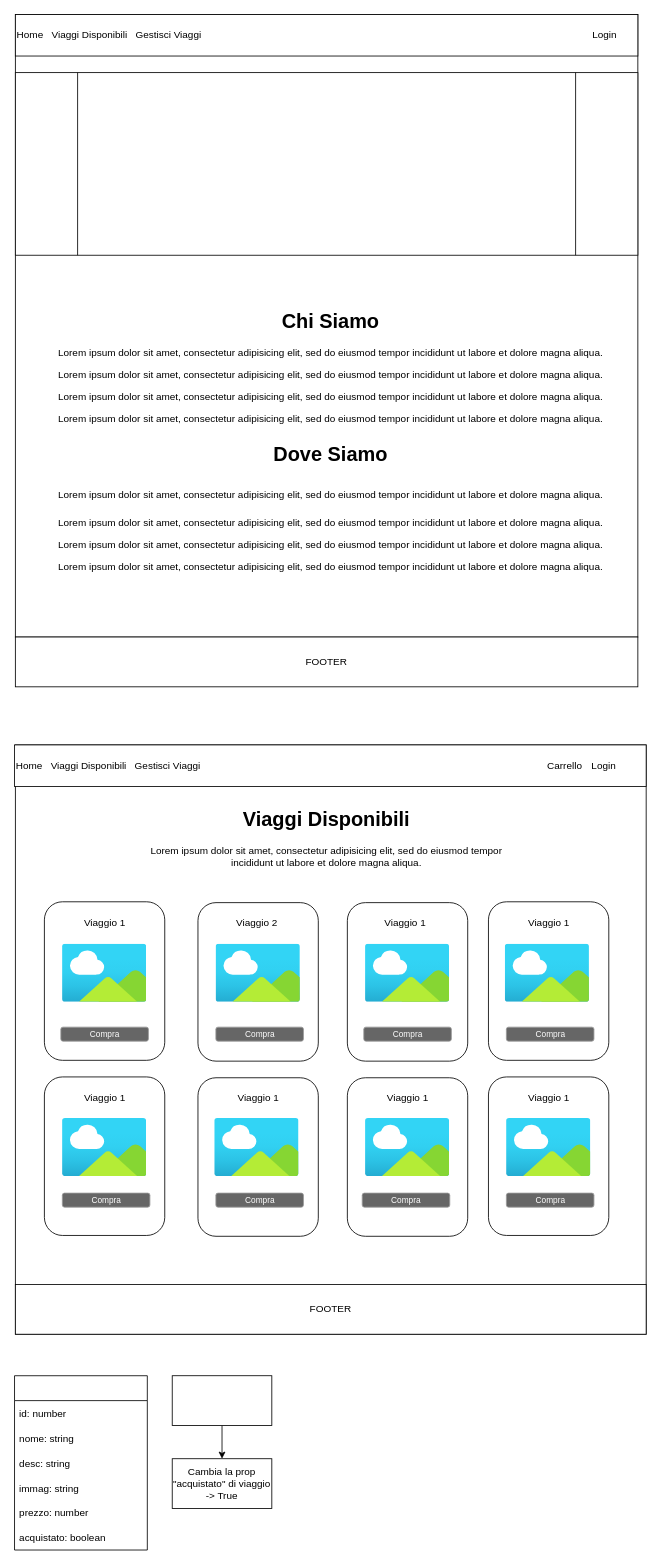
Some shapes in this 661 by 1565 pixel diagram are drawn without their labels. The box of each missing label's shape, as (x1, y1, x2, y2) in pixels:
CAROUSEL DI IMMAGINI VIAGGI: (15, 72, 638, 255)
click su compra: (171, 1375, 272, 1426)
Viaggio: (14, 1375, 147, 1550)
